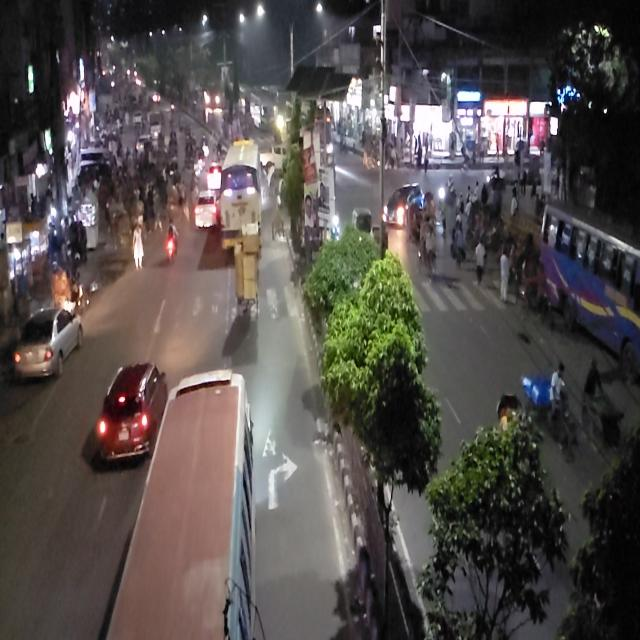maroon: (96, 360, 166, 470)
silver: (13, 305, 82, 382)
